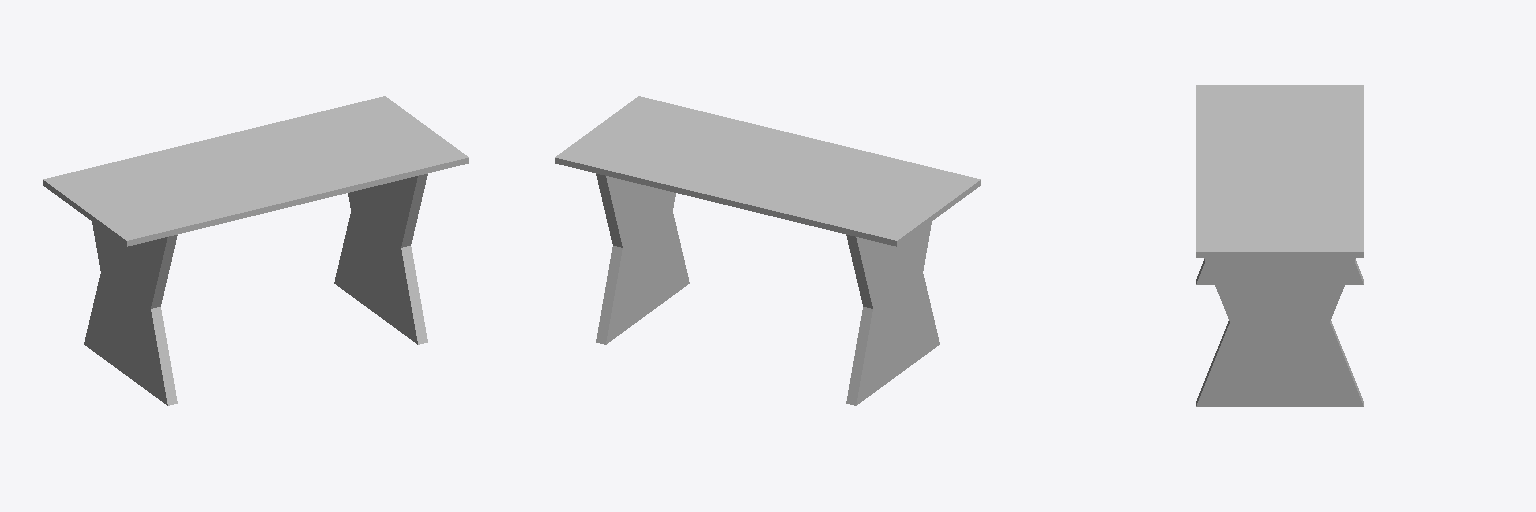
The model's file is SMTable.obj.
3 renders of one model, left to right at view 1: azimuth 30°, elevation 25°; view 2: azimuth 150°, elevation 25°; view 3: azimuth 270°, elevation 25°, orthographic.
Parts seen in each view (by area): view 1: Table; view 2: Table; view 3: Table.
Part boxes in pixels (left/top/right/bottom): Table: left=43, top=96, right=468, bottom=405; Table: left=555, top=96, right=980, bottom=405; Table: left=1196, top=85, right=1363, bottom=406.
Bounding box in the file's own units: 3.75 × 1.83 × 1.59.